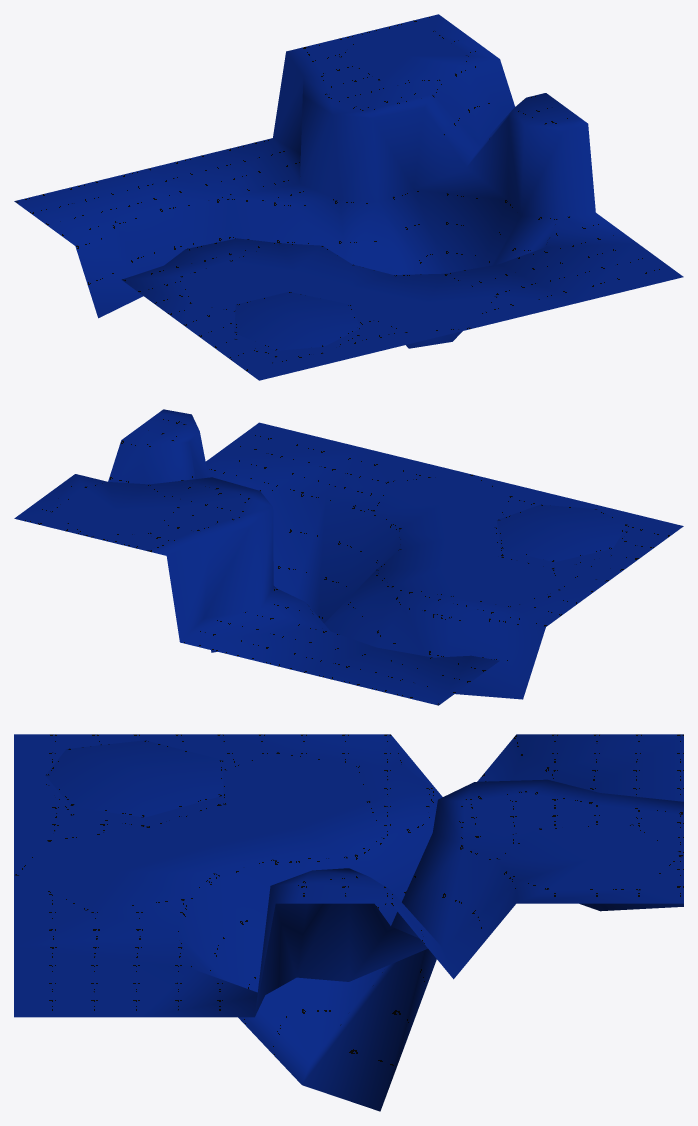
The model's file is GRD_S_C7_R3_1.fbx.
3 views of the same model, one above another, from view 1: azimuth 30°, elevation 25°; view 2: azimuth 150°, elevation 25°; view 3: azimuth 270°, elevation 25° (orthographic). The views are drawn at different scales.
Parts seen in each view (by area): view 1: material_00052000, material_C0042000, material_00032000, material_C0022000, material_C0012000, material_C0062000; view 2: material_00052000, material_C0042000, material_C0022000, material_00032000, material_C0012000, material_C0062000; view 3: material_00052000, material_C0042000, material_C0022000, material_00032000, material_C0012000, material_C0062000.
Boxes of the visible parts, <box> form: material_00052000: <box>14,14,683,380</box>; material_C0042000: <box>75,59,558,348</box>; material_00032000: <box>273,46,595,217</box>; material_C0022000: <box>179,30,497,333</box>; material_C0012000: <box>234,292,360,350</box>; material_C0062000: <box>234,329,360,357</box>; material_00052000: <box>14,415,683,705</box>; material_C0042000: <box>108,440,545,699</box>; material_C0022000: <box>49,474,561,607</box>; material_00032000: <box>147,409,273,641</box>; material_C0012000: <box>496,504,627,562</box>; material_C0062000: <box>496,527,627,569</box>; material_00052000: <box>14,734,683,1017</box>; material_C0042000: <box>176,734,556,1111</box>; material_C0022000: <box>14,752,683,911</box>; material_00032000: <box>255,779,683,1016</box>; material_C0012000: <box>45,740,223,817</box>; material_C0062000: <box>45,780,223,826</box>.
Bounding box in the file's own units: 12800 × 5600 × 12800.
